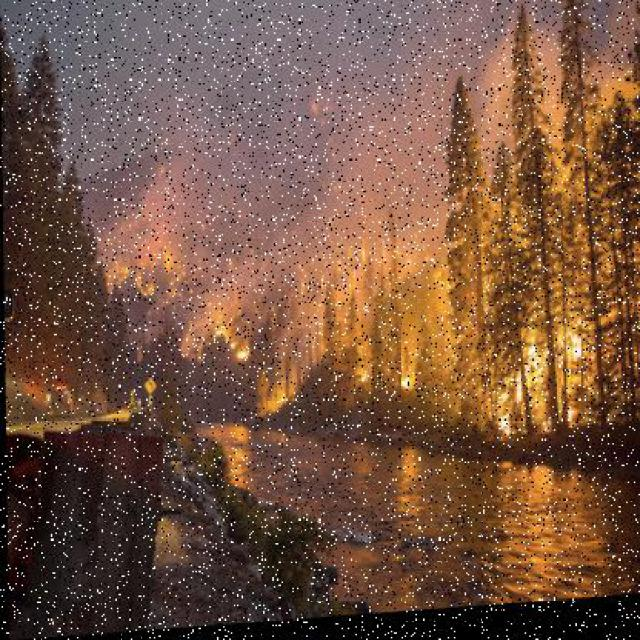fire: (100, 104, 640, 458)
